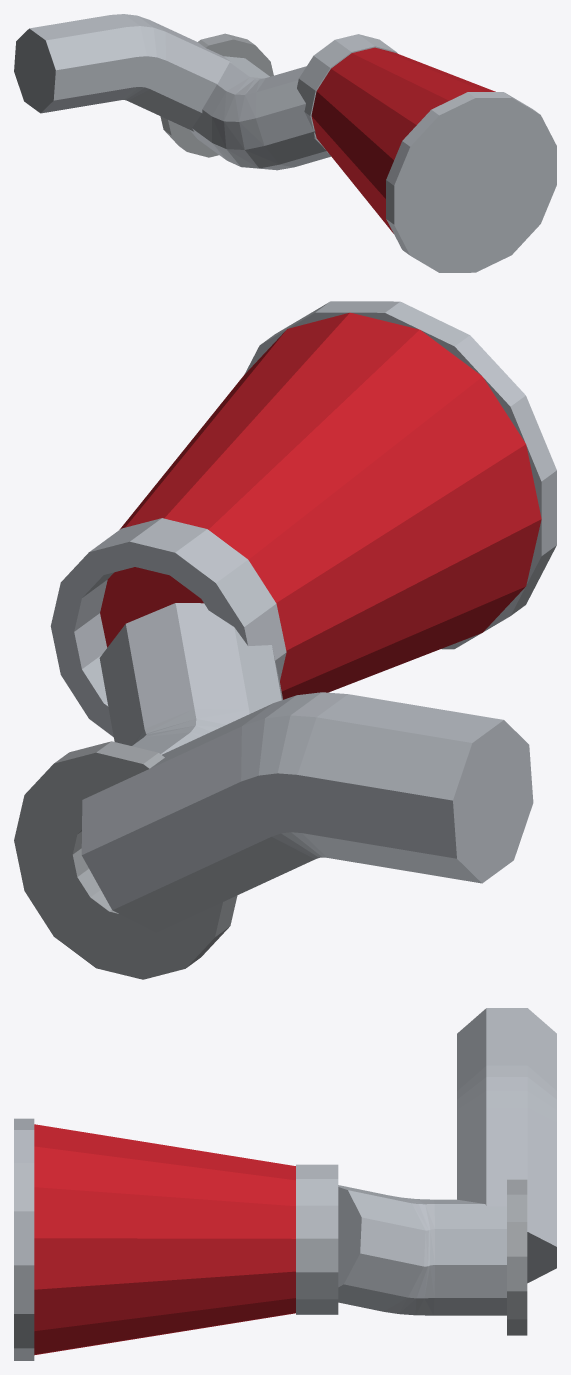
File: strada_evo.glb
3 renders of one model, top to bottom at view 1: azimuth 30°, elevation 25°; view 2: azimuth 150°, elevation 25°; view 3: azimuth 270°, elevation 25°, orthographic. The views are drawn at different scales.
Visible parts, largest first — view 1: model; view 2: model; view 3: model.
Boxes of the visible parts, left/top/right/bottom form: model: left=14, top=14, right=556, bottom=272; model: left=14, top=301, right=556, bottom=979; model: left=14, top=1008, right=556, bottom=1360.
Size of the model in its own units: 0.2822 by 0.1528 by 0.3216.
Materials: 2 (1 with a texture image).
